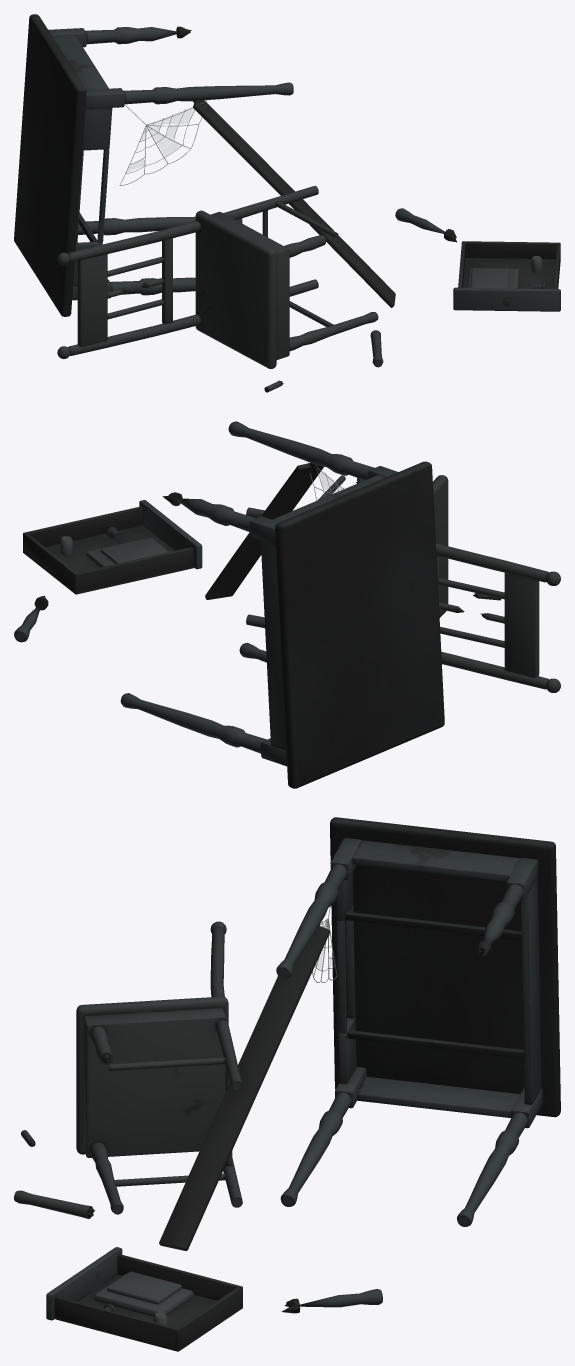
The model's file is broken-furniture.glb.
3 views of the same model, one above another, from view 1: azimuth 30°, elevation 25°; view 2: azimuth 150°, elevation 25°; view 3: azimuth 270°, elevation 25° (orthographic). The views are drawn at different scales.
Visible parts, largest first — view 1: broken-furniture_body, broken-furniture_web; view 2: broken-furniture_body; view 3: broken-furniture_body.
Boxes of the visible parts, left/top/right/bottom form: broken-furniture_body: left=14, top=14, right=560, bottom=392; broken-furniture_web: left=119, top=100, right=207, bottom=185; broken-furniture_body: left=14, top=421, right=560, bottom=788; broken-furniture_body: left=14, top=817, right=560, bottom=1351.
Bounding box in the file's own units: 1.79 × 0.801 × 1.41.
Materials: 3 (1 with a texture image).
